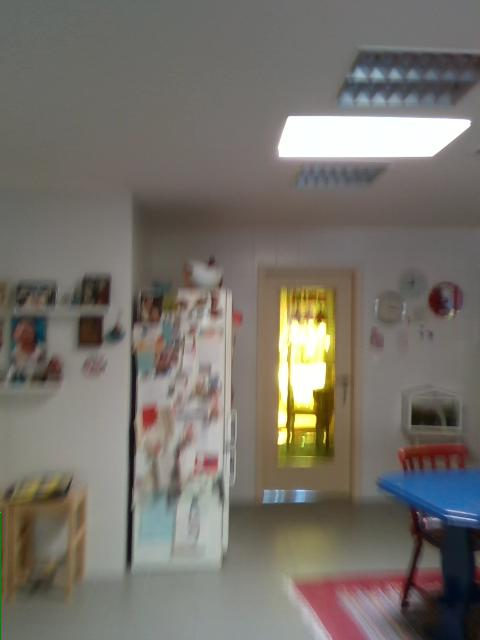door: (256, 265, 359, 504)
